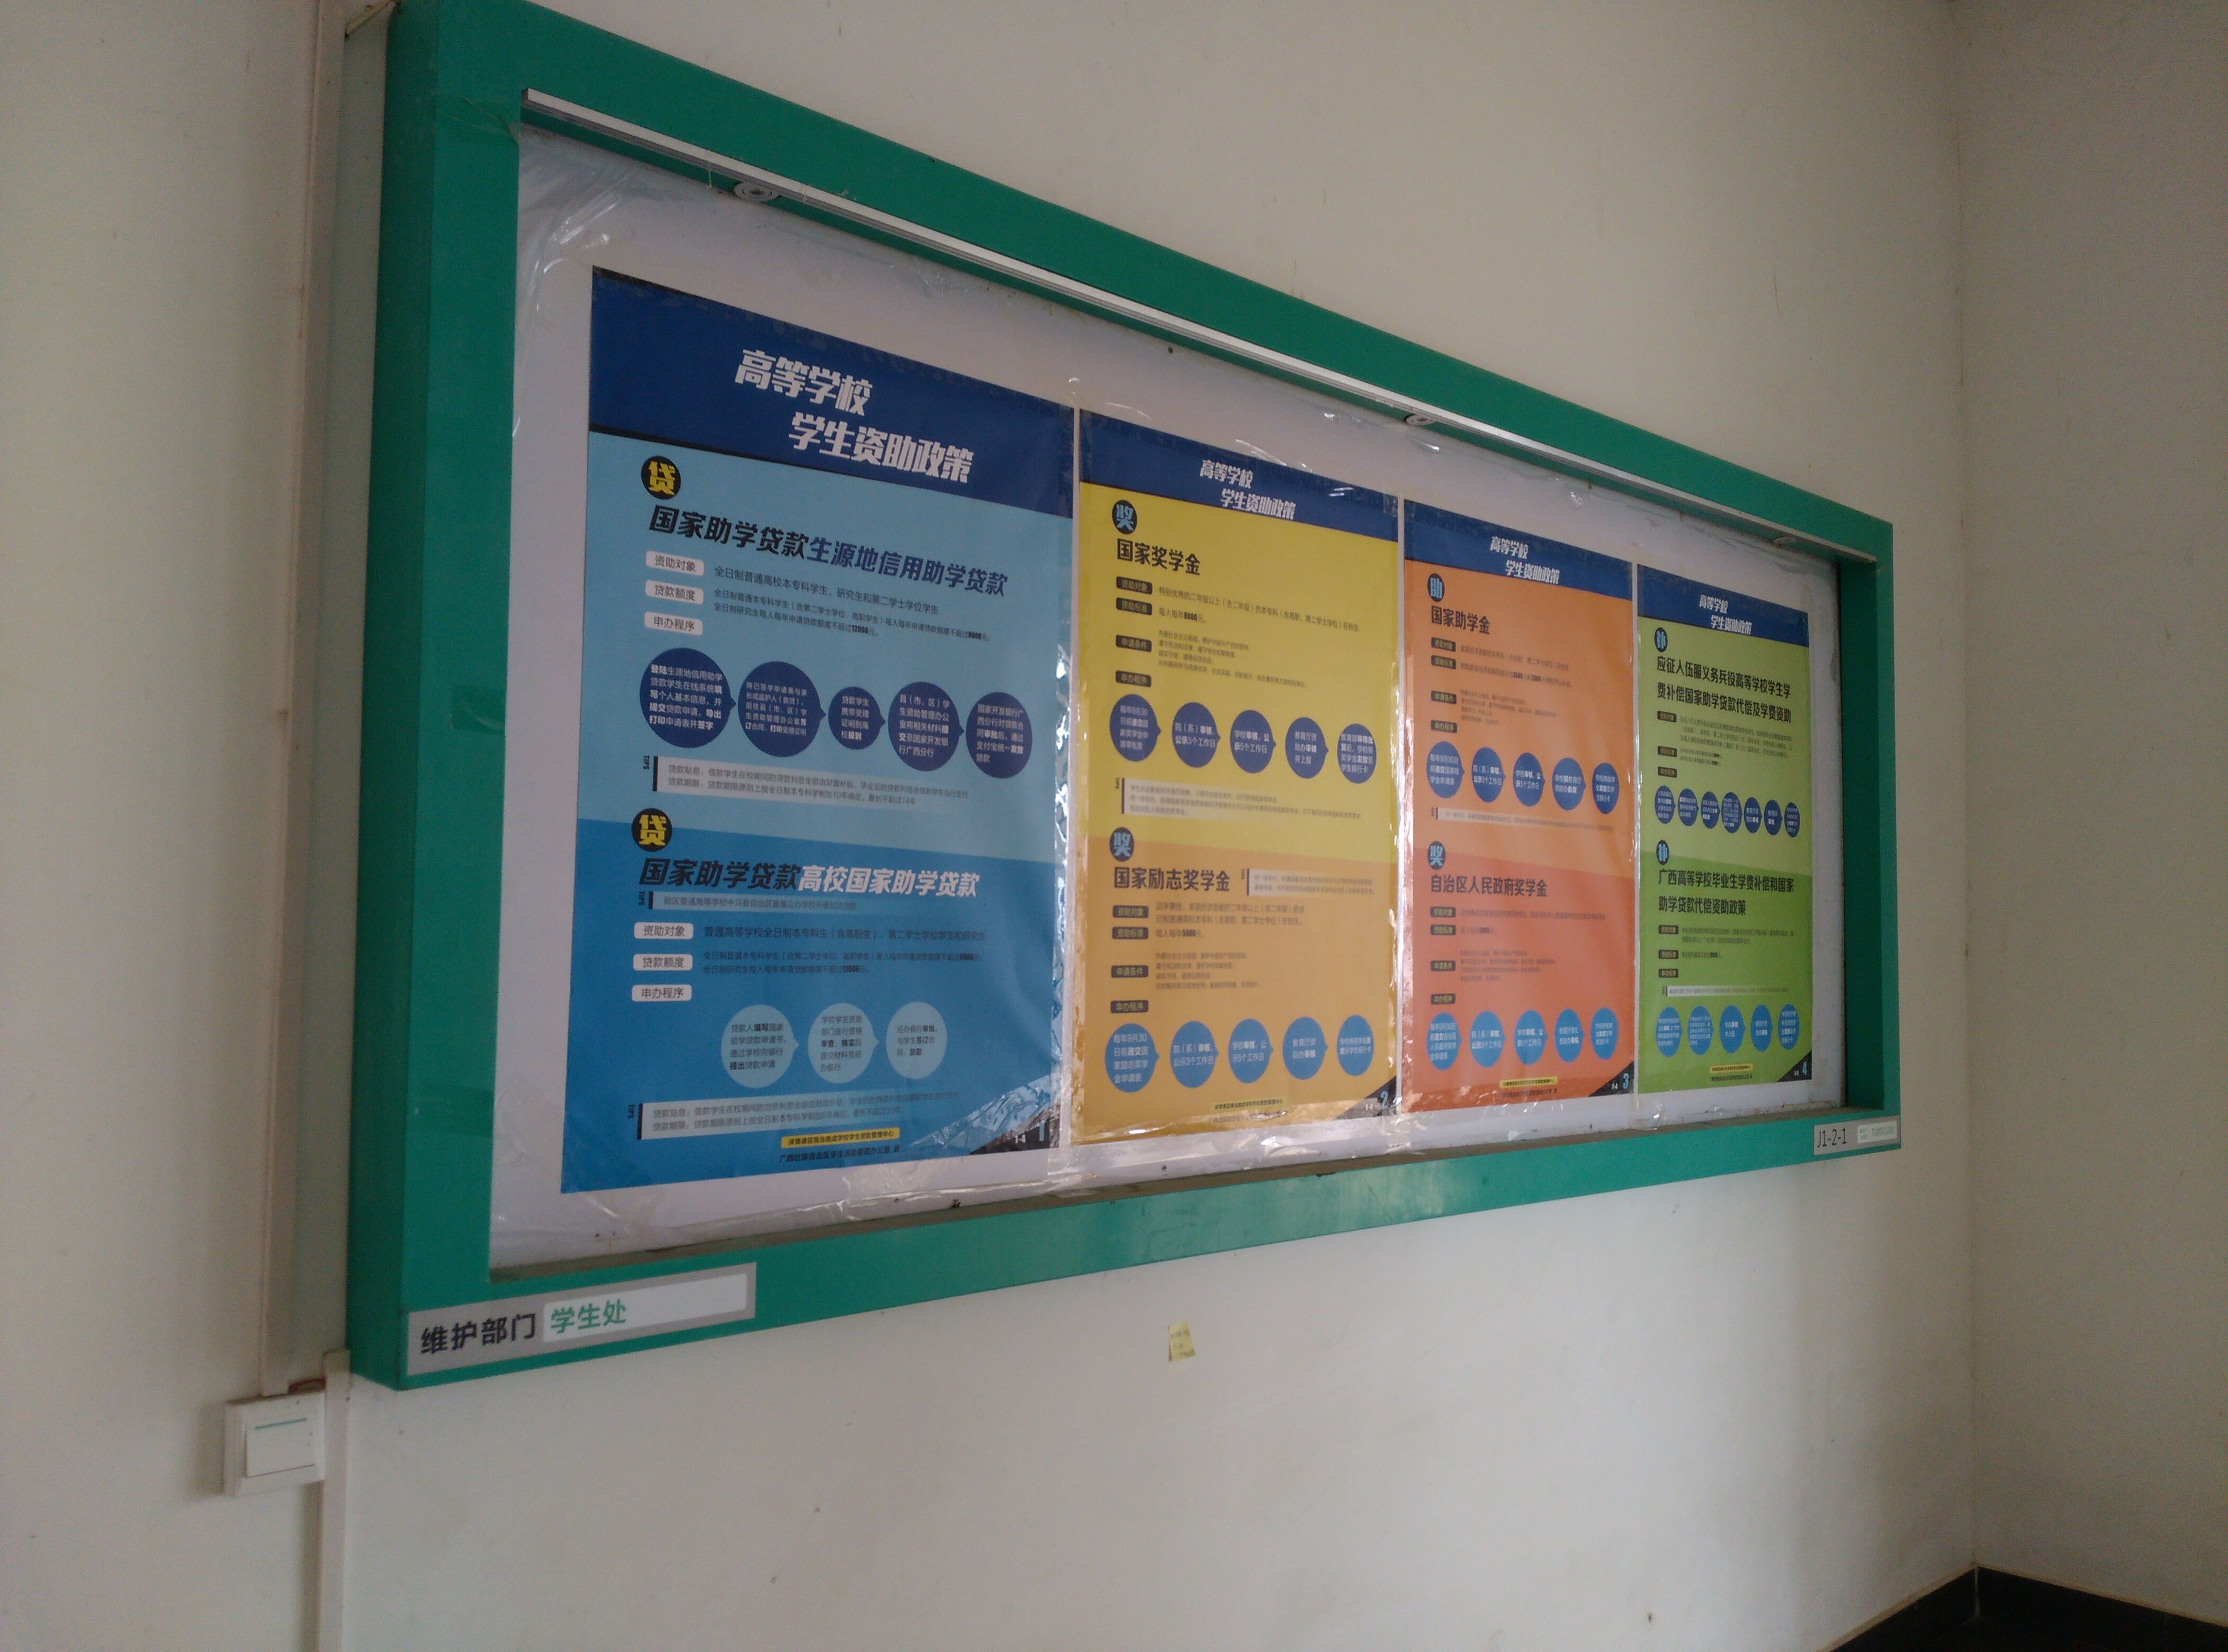bill: (555, 257, 1076, 1194), (1076, 404, 1404, 1150), (1402, 498, 1638, 1118), (1636, 560, 1818, 1097)
